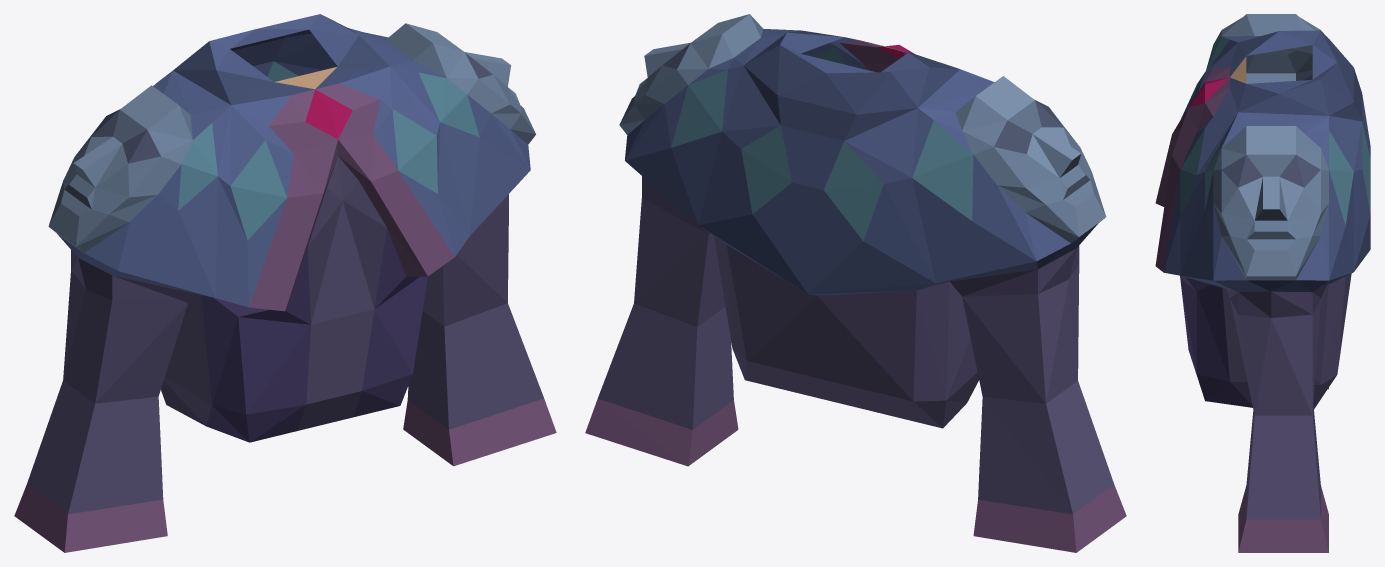
The picture shows the model from 3 angles, left to right: view 1: azimuth 30°, elevation 25°; view 2: azimuth 150°, elevation 25°; view 3: azimuth 270°, elevation 25°; orthographic projection. The views are drawn at different scales.
Bounding box in the file's own units: 62 × 53 × 26.
